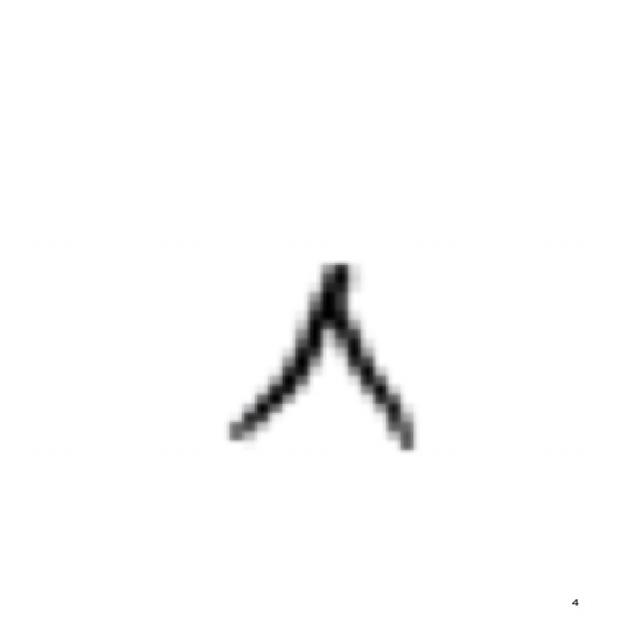8 -eight-: (197, 228, 460, 473)
